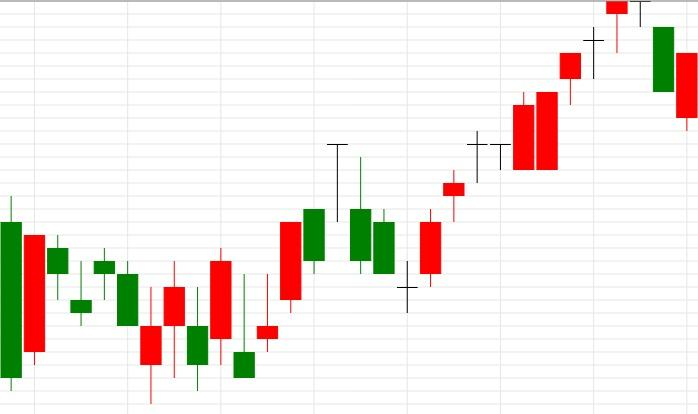hanging_man_fall: (396, 0, 629, 313)
morning_star_rise: (325, 143, 442, 313)
